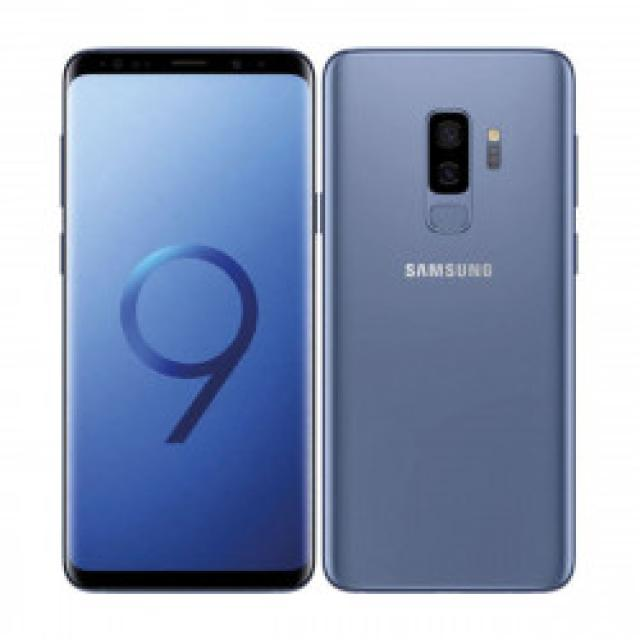mobile phone: (320, 44, 579, 592), (59, 44, 315, 592)
